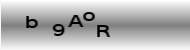9: (51, 23, 65, 37)
A: (67, 14, 84, 28)
R: (96, 24, 111, 38)
b: (24, 15, 39, 29)
o: (82, 11, 96, 22)
